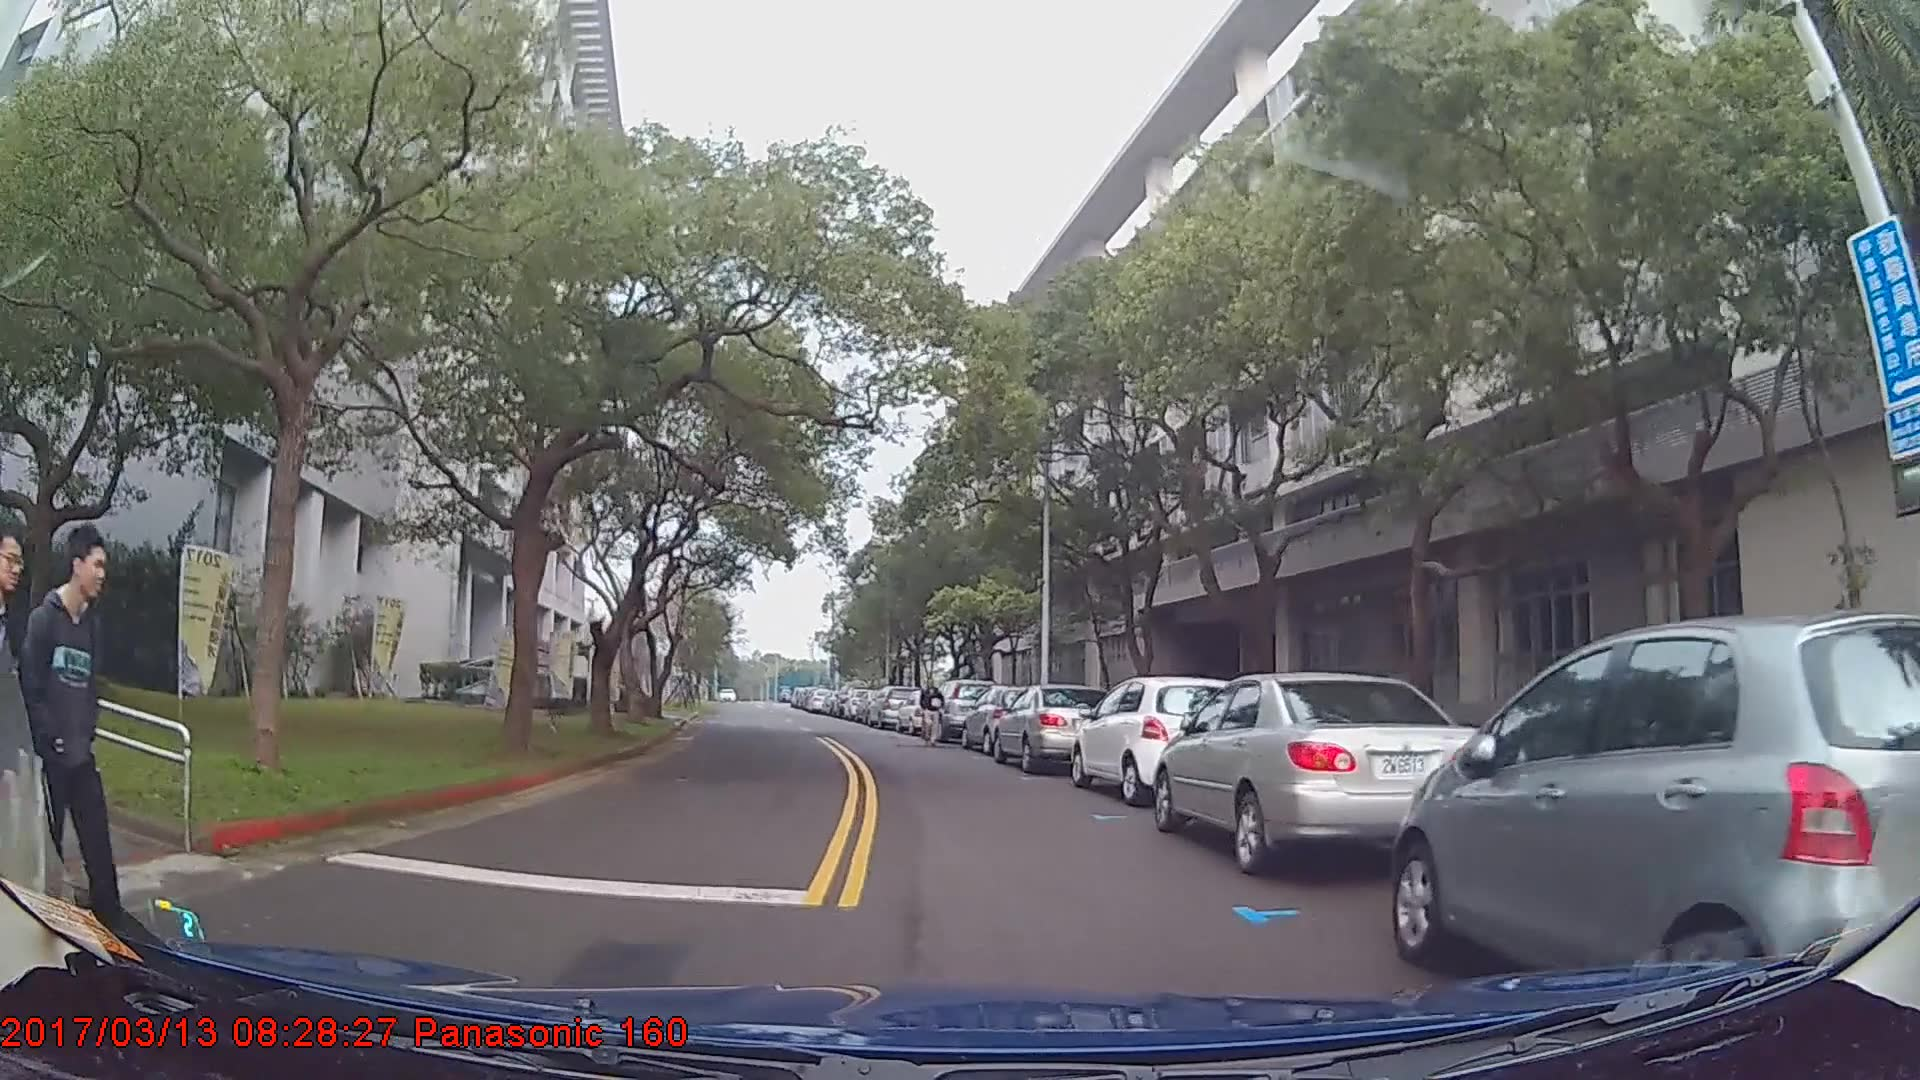pedestrian: (10, 527, 120, 988), (917, 675, 945, 747)
vehicle: (1390, 608, 1920, 1010), (1155, 668, 1494, 878), (1071, 672, 1244, 806), (992, 681, 1109, 772), (959, 681, 1056, 755), (928, 677, 996, 743), (866, 682, 917, 728)
